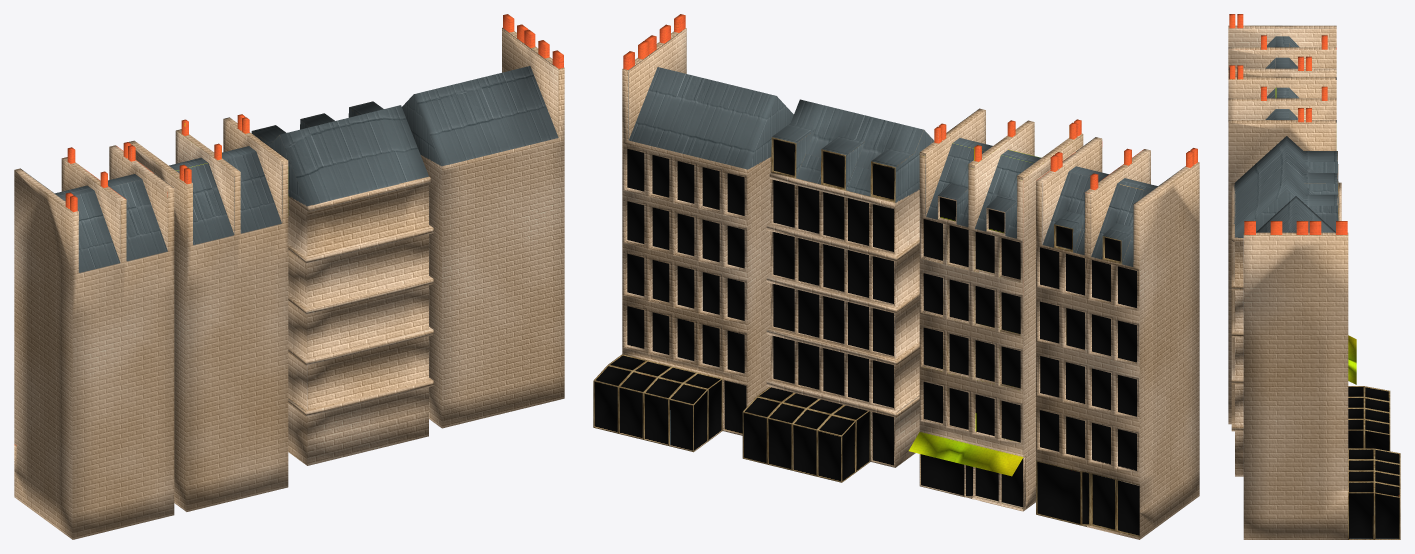
Rendered from side_buildings.FBX.
3 views of the same model, side by side, from view 1: azimuth 30°, elevation 25°; view 2: azimuth 150°, elevation 25°; view 3: azimuth 270°, elevation 25° (orthographic). The views are drawn at different scales.
Visible parts, largest first — view 1: building2, building, Cube4_Cube4_auv, building1; view 2: building2, building, Cube4_Cube4_auv, building1; view 3: building, Cube4_Cube4_auv, building1, building2.
Boxes of the visible parts, box(x1,y1,x2,y2) form: building2: box(14, 142, 174, 539); building: box(402, 14, 564, 428); Cube4_Cube4_auv: box(251, 101, 433, 465); building1: box(128, 114, 288, 511); building2: box(1036, 137, 1199, 539); building: box(593, 14, 793, 452); Cube4_Cube4_auv: box(742, 99, 934, 482); building1: box(908, 108, 1083, 511); building: box(1243, 196, 1400, 539); Cube4_Cube4_auv: box(1231, 136, 1390, 476); building1: box(1228, 65, 1356, 424); building2: box(1228, 14, 1336, 76).
Bounding box in the file's own units: 39.42 × 26.86 × 12.74.
Materials: 4 (4 with a texture image).
